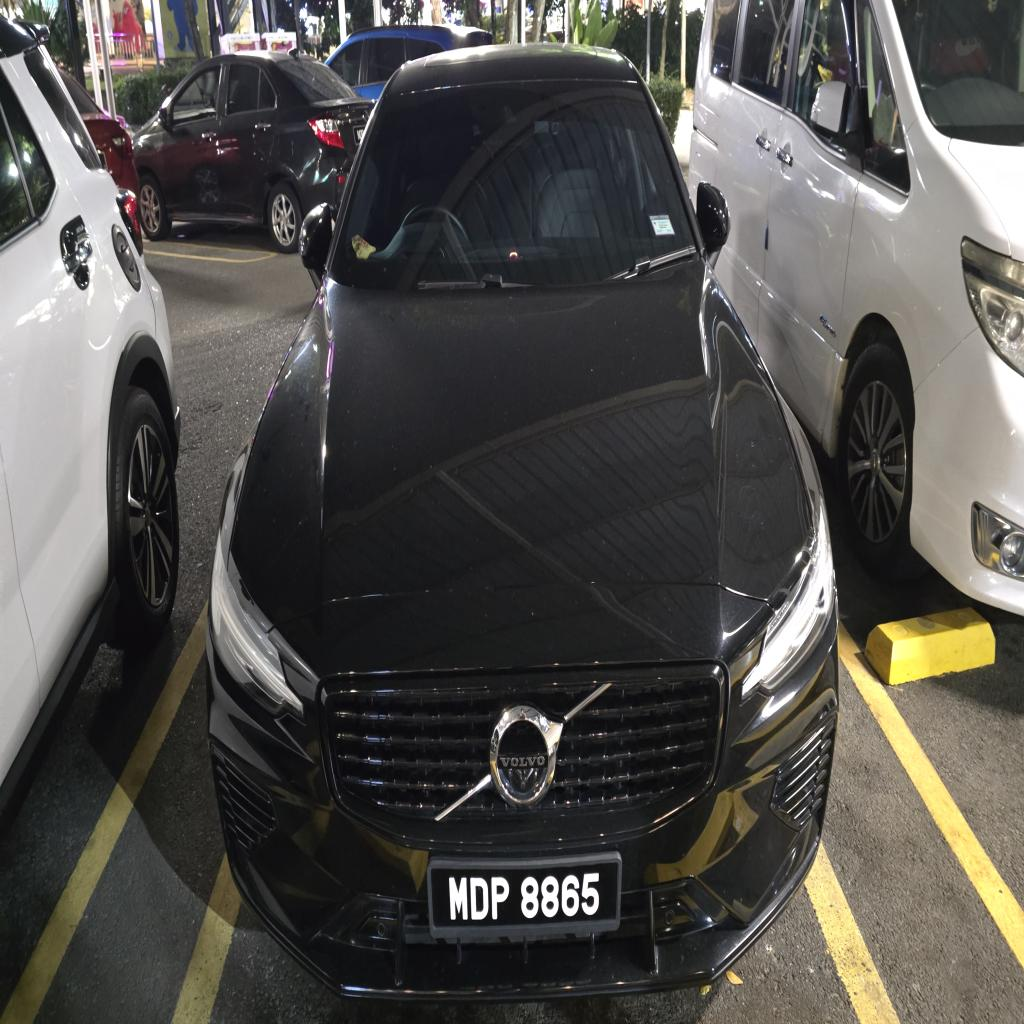car: (207, 45, 838, 998)
car plate: (427, 852, 621, 941)
